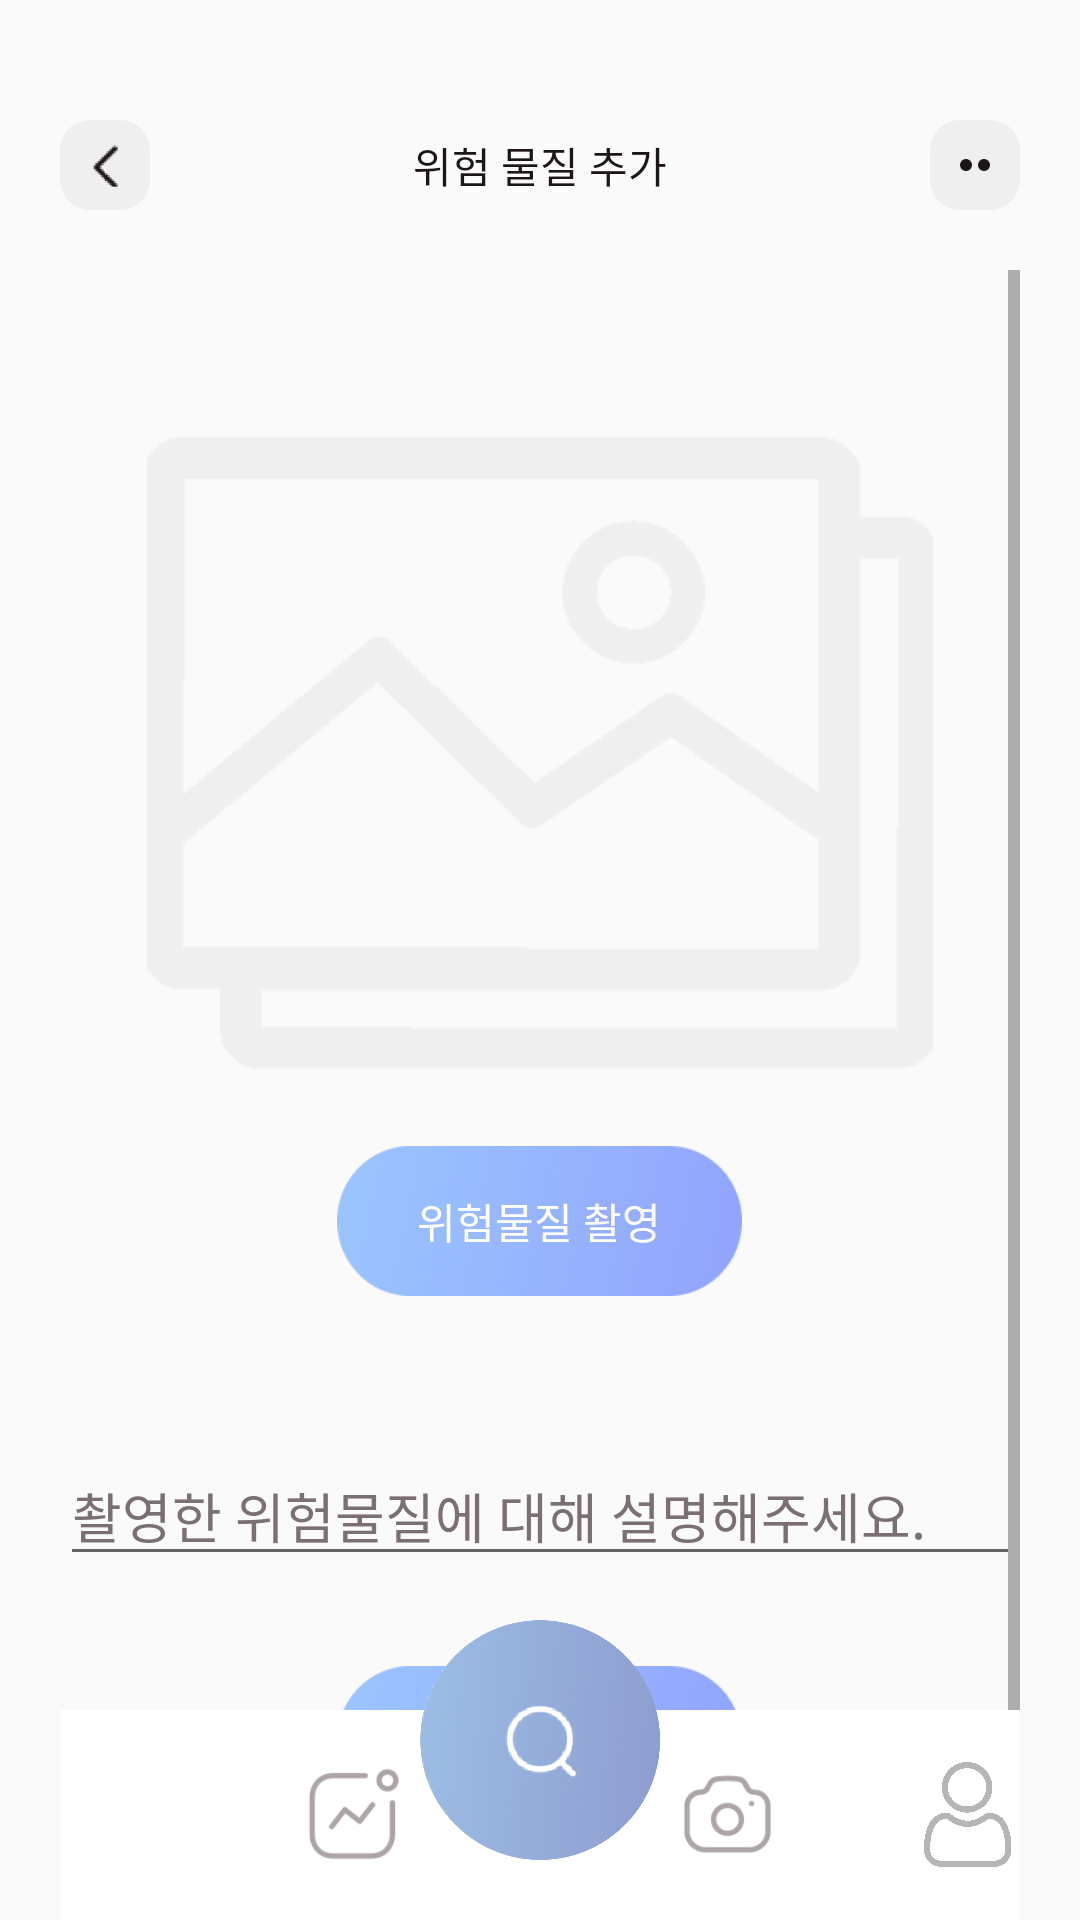

Icons on this 1080px×1920px Android screen, each with the point to tap as (x,y):
back: (105,165)
dots: (975,165)
navbar camera: (727,1814)
navbar photo: (354,1814)
navbar profile: (967,1814)
navbar search: (540,1740)
